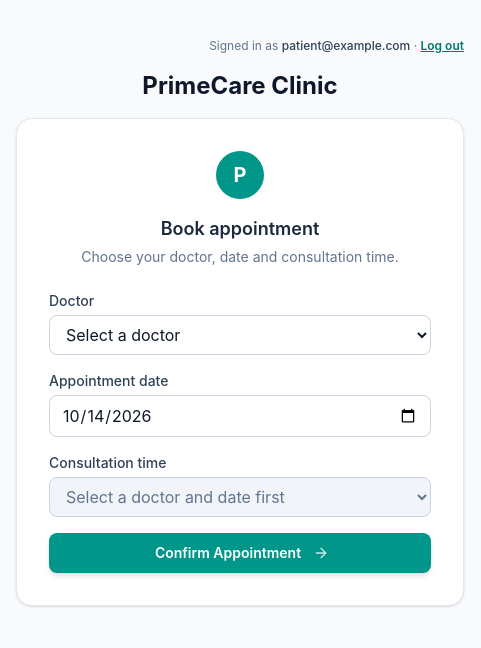
it: BookAppointment › uses the clinic's date from the server, not the browser clock
This screenshot has width=481, height=648.
Expected: the date field labelled "Appointment date" holds "2026-10-14", [49,395,431,437]
Select "Dr. Sarah Perera - General Practitioner" in the dropdown labelled "Doctor" at x=240, y=335, box [49,315,431,355]
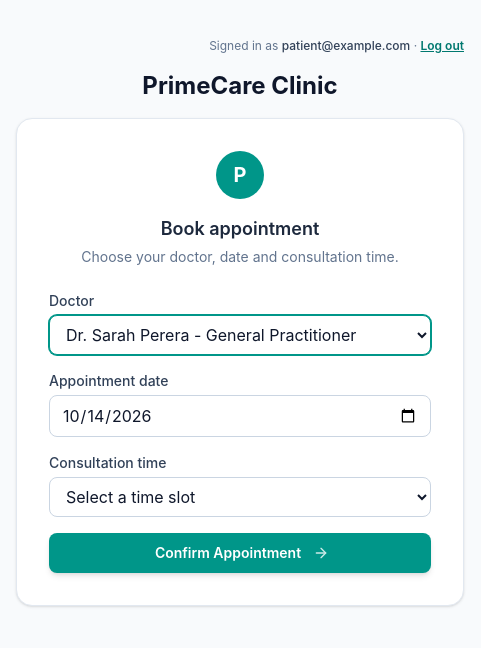
Type "2026-10-13" into the date field labelled "Appointment date" at x=240, y=416, box [49,395,431,437]
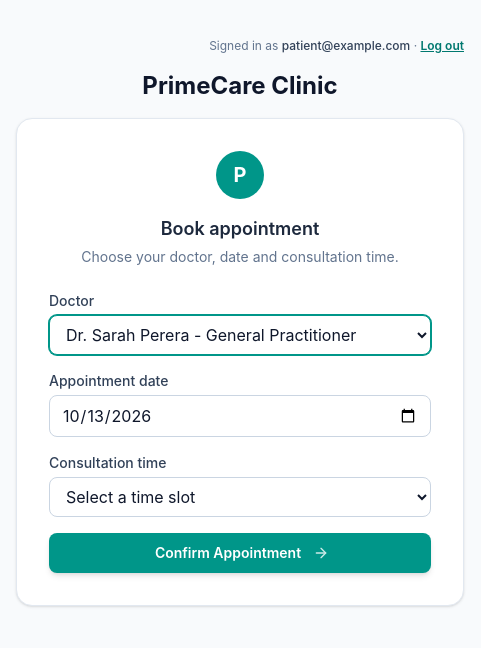
Click the button "Confirm Appointment" at x=240, y=553, box [49,533,431,573]
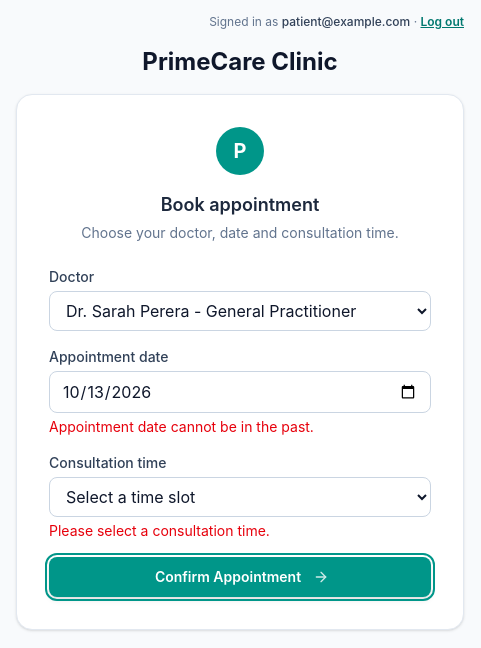
Expected: the text "Appointment date cannot be in the past." is shown, [49,418,314,435]
